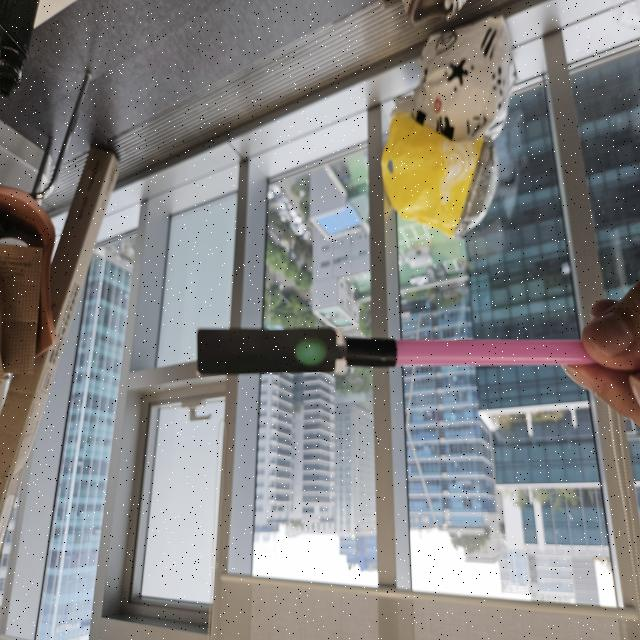traffic light: (197, 327, 346, 378)
